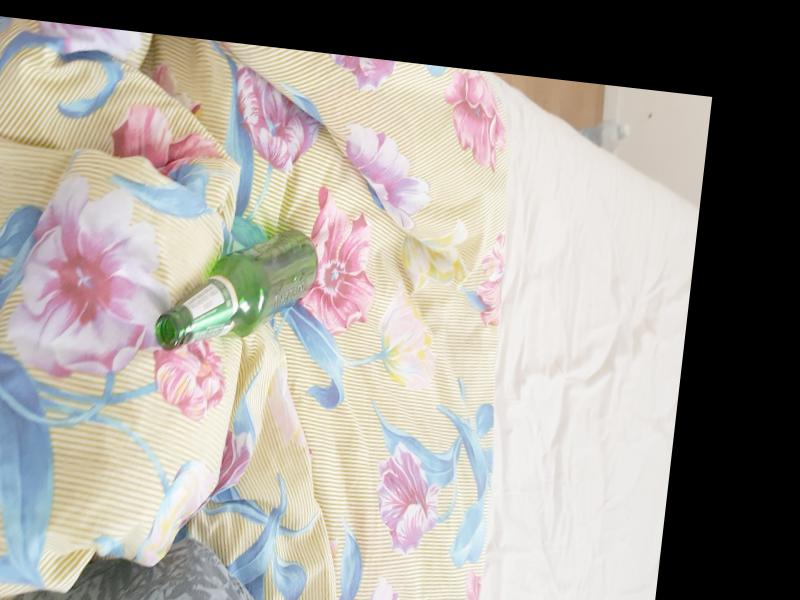Beer: (151, 215, 320, 363)
